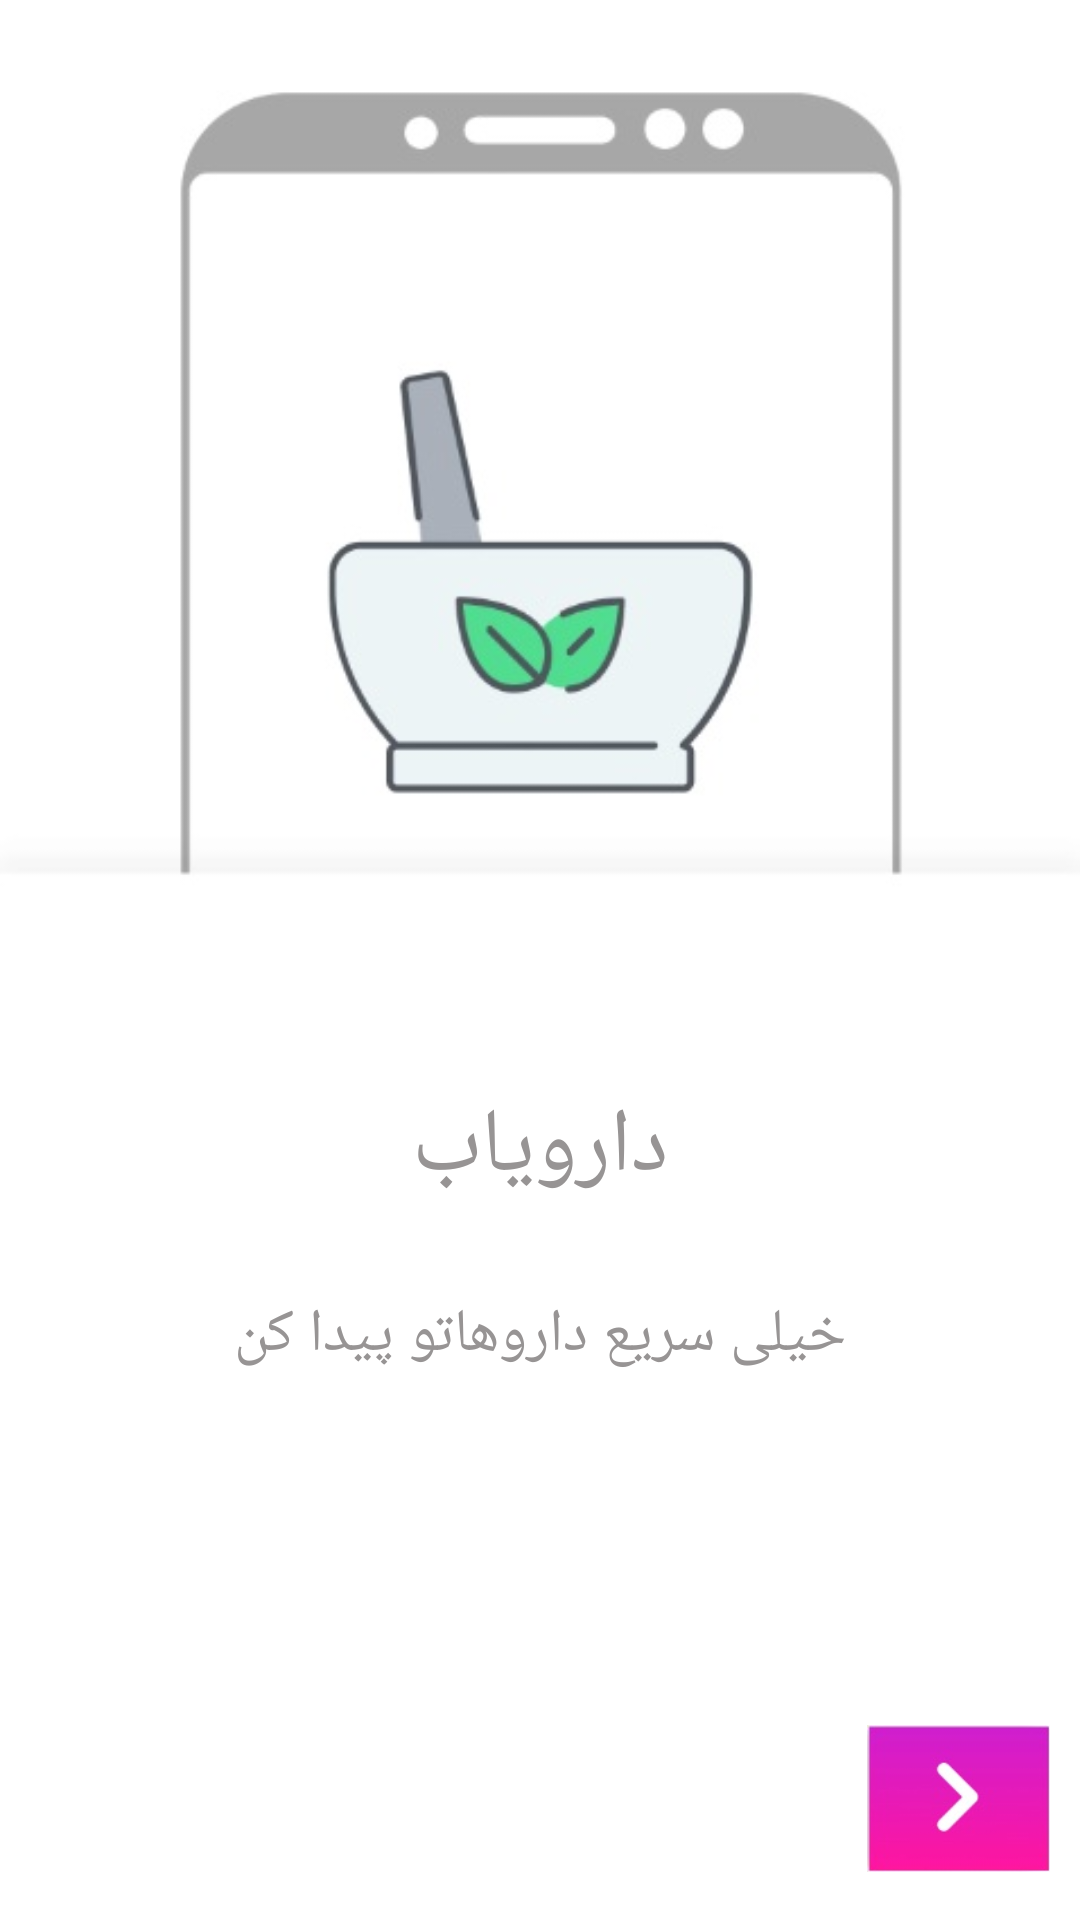

Named icons in this screenshot (1080w x 1920h) and their centers, (x=x, y=y):
arr: (x=958, y=1798)
